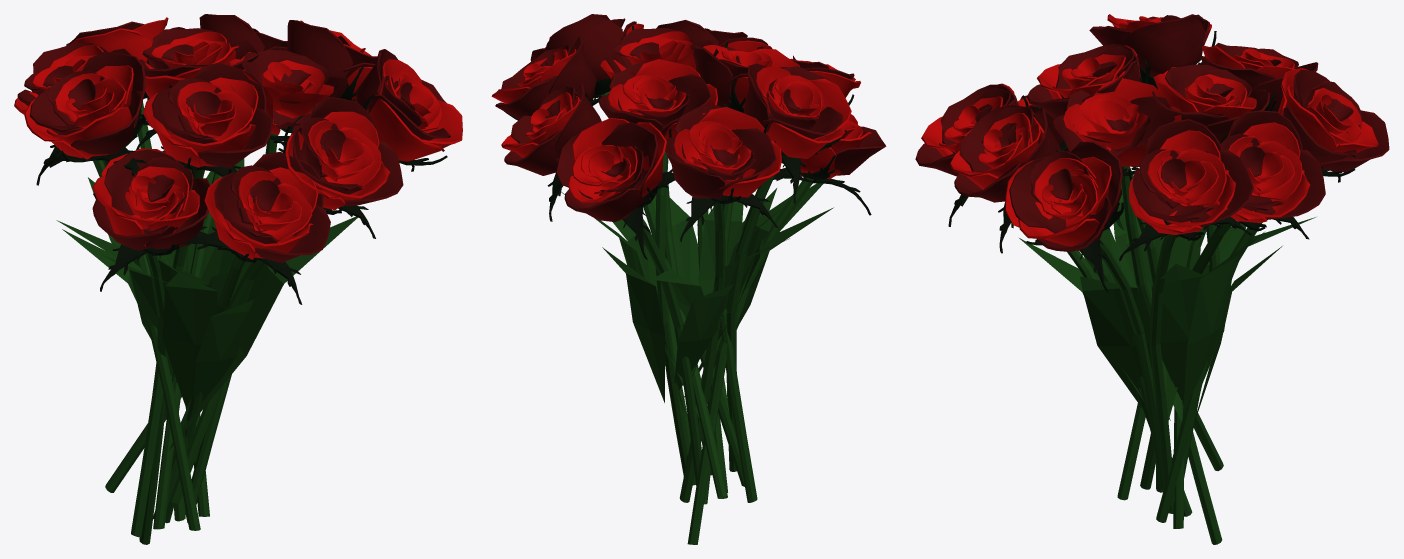
Rendered from roses.FBX.
The picture shows the model from 3 angles, left to right: view 1: azimuth 30°, elevation 25°; view 2: azimuth 150°, elevation 25°; view 3: azimuth 270°, elevation 25°; orthographic projection. The views are drawn at different scales.
Parts seen in each view (by area): view 1: roseGroupLeaf, roseGroupLeaf008, roseGroupLeaf001, vine009, rosePad144, vine010, vine011, Plane025, vine016, rosePad230, rosePad234, rosePad208 (+68 smaller); view 2: vine011, roseGroupLeaf005, vine015, rosePad157, roseGroupLeaf004, vine010, vine014, vine013, vine007, vine009, roseGroupLeaf009, roseGroupLeaf008 (+51 smaller); view 3: roseGroupLeaf008, roseGroupLeaf006, roseGroupLeaf007, rosePad196, vine005, vine006, vine007, vine015, rosePad165, rosePad143, rosePad152, vine011 (+62 smaller).
Part boxes in pixels (x1=…): roseGroupLeaf: x1=162, y1=272, x2=217, y2=408; roseGroupLeaf008: x1=169, y1=216, x2=357, y2=450; roseGroupLeaf001: x1=193, y1=299, x2=254, y2=413; vine009: x1=102, y1=160, x2=200, y2=530; rosePad144: x1=287, y1=20, x2=353, y2=77; vine010: x1=131, y1=170, x2=204, y2=537; vine011: x1=139, y1=252, x2=168, y2=544; Plane025: x1=367, y1=98, x2=444, y2=161; vine016: x1=153, y1=173, x2=221, y2=529; rosePad230: x1=104, y1=149, x2=180, y2=232; rosePad234: x1=254, y1=201, x2=330, y2=262; rosePad208: x1=197, y1=106, x2=272, y2=168; vine011: x1=687, y1=177, x2=813, y2=544; roseGroupLeaf005: x1=602, y1=247, x2=665, y2=402; vine015: x1=655, y1=151, x2=688, y2=476; rosePad157: x1=545, y1=14, x2=623, y2=80; roseGroupLeaf004: x1=674, y1=284, x2=733, y2=390; vine010: x1=720, y1=202, x2=757, y2=502; vine014: x1=643, y1=219, x2=701, y2=485; vine013: x1=679, y1=202, x2=725, y2=502; vine007: x1=665, y1=184, x2=727, y2=498; vine009: x1=726, y1=150, x2=781, y2=471; roseGroupLeaf009: x1=698, y1=201, x2=743, y2=353; roseGroupLeaf008: x1=652, y1=194, x2=729, y2=415; roseGroupLeaf008: x1=1080, y1=276, x2=1151, y2=408; roseGroupLeaf006: x1=1182, y1=232, x2=1264, y2=418; roseGroupLeaf007: x1=1151, y1=263, x2=1204, y2=403; rosePad196: x1=1122, y1=14, x2=1205, y2=76; vine005: x1=1149, y1=234, x2=1176, y2=510; vine006: x1=1100, y1=238, x2=1163, y2=489; vine007: x1=1121, y1=166, x2=1223, y2=470; vine015: x1=1156, y1=224, x2=1219, y2=522; rosePad165: x1=1009, y1=156, x2=1089, y2=233; rosePad143: x1=1190, y1=149, x2=1253, y2=227; rosePad152: x1=1132, y1=169, x2=1214, y2=223; vine011: x1=1116, y1=201, x2=1222, y2=544.
Size of the model in its own units: 31.66 by 40.84 by 34.77.
